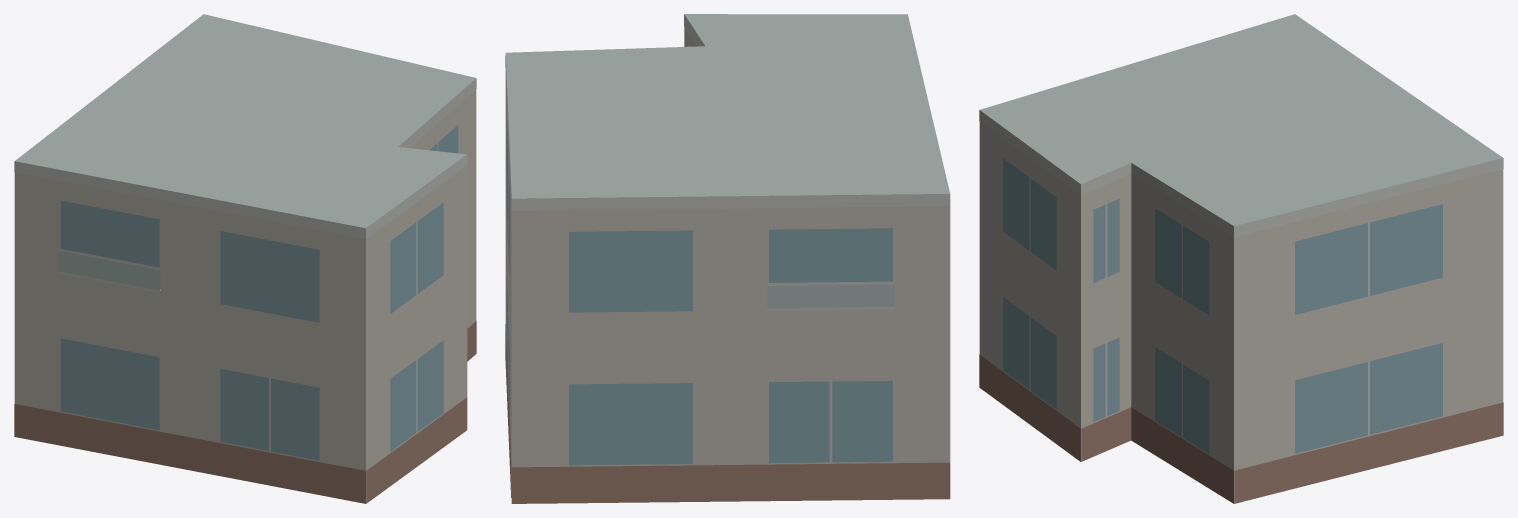
Rendered from survey-upis-32797043.glb.
3 renders of one model, left to right at view 1: azimuth 30°, elevation 25°; view 2: azimuth 150°, elevation 25°; view 3: azimuth 270°, elevation 25°, orthographic. The views are drawn at different scales.
Visible parts, largest first — view 1: survey-upis-32797043.tmp; view 2: survey-upis-32797043.tmp; view 3: survey-upis-32797043.tmp.
Boxes of the visible parts, bbox=[...] form: survey-upis-32797043.tmp: bbox=[14, 14, 476, 503]; survey-upis-32797043.tmp: bbox=[505, 14, 950, 503]; survey-upis-32797043.tmp: bbox=[979, 14, 1503, 503].
Bounding box in the file's own units: 10.01 × 6.1 × 10.44.
